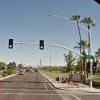Traffic light: (4, 32, 45, 58)
